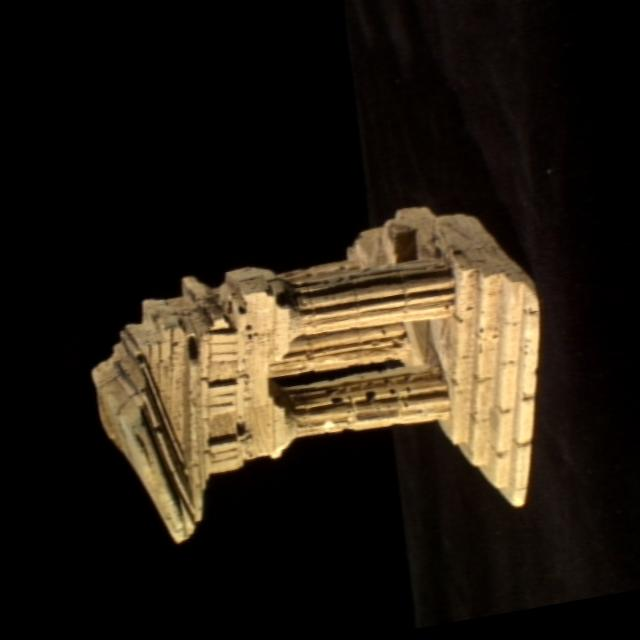Instance-Segmentation: (93, 208, 539, 542)
